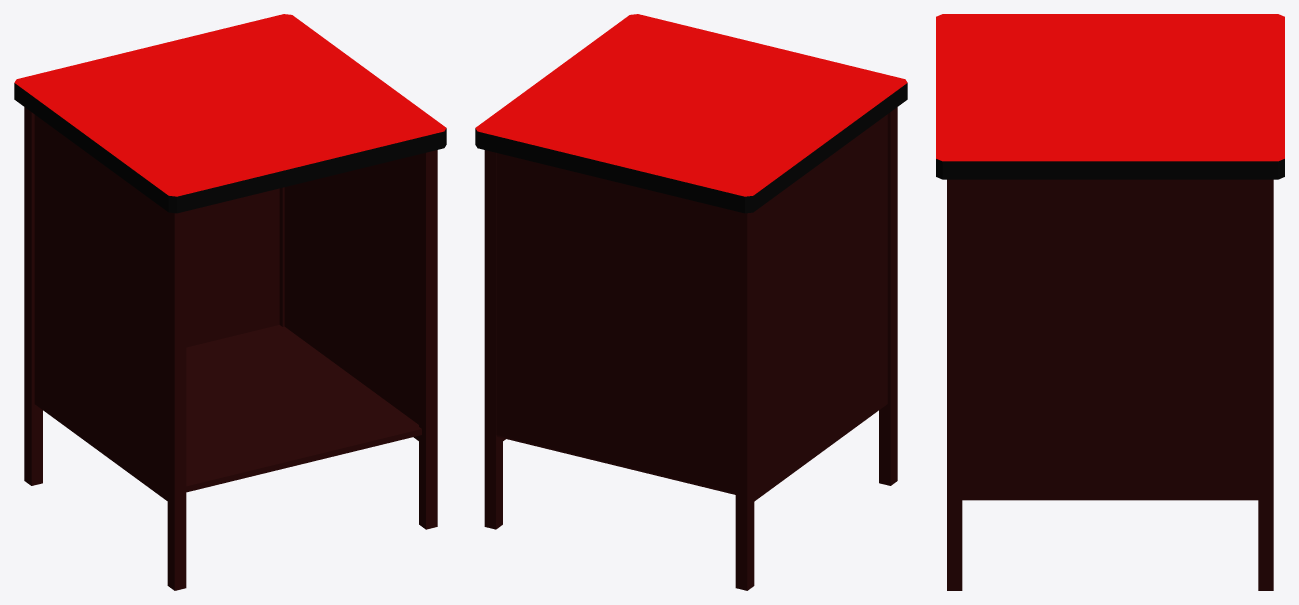
The model's file is TeacherDesk.glb.
3 views of the same model, side by side, from view 1: azimuth 30°, elevation 25°; view 2: azimuth 150°, elevation 25°; view 3: azimuth 270°, elevation 25° (orthographic). The views are drawn at different scales.
Visible parts, largest first — view 1: TeacherDesk; view 2: TeacherDesk; view 3: TeacherDesk.
Part boxes in pixels (box(x1,y1,x2,y2)): TeacherDesk: box(14, 14, 446, 590); TeacherDesk: box(475, 14, 907, 590); TeacherDesk: box(936, 14, 1284, 590).
Bounding box in the file's own units: 4.93 × 6.75 × 4.93.
